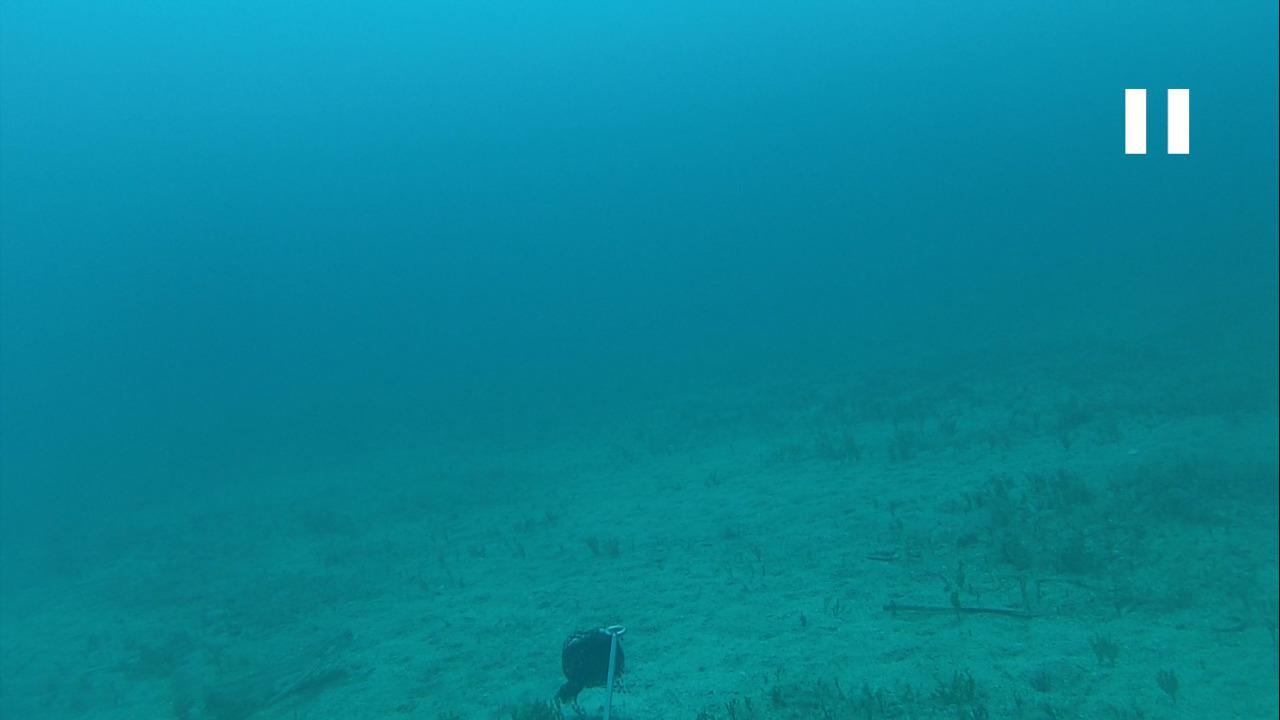dactylopterus: (170, 629, 370, 711)
